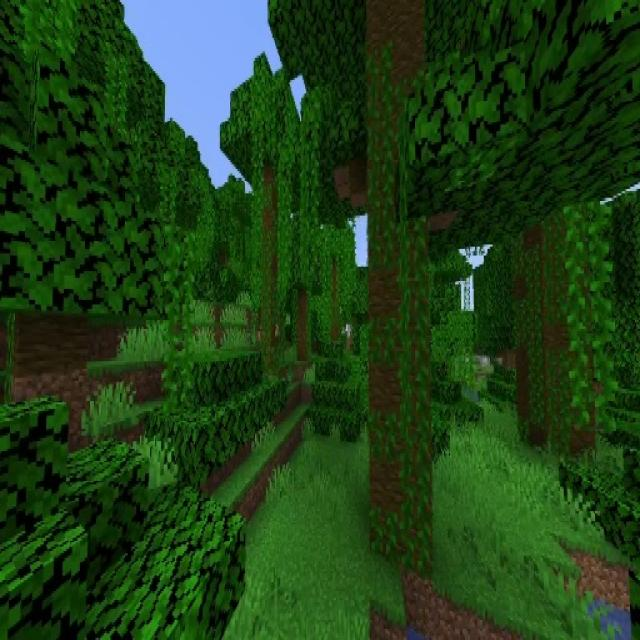jungle: (303, 1, 516, 573), (0, 54, 167, 392), (222, 37, 310, 370)
jungle_log: (368, 0, 431, 571), (519, 212, 594, 450), (10, 315, 89, 381), (294, 288, 312, 357)
